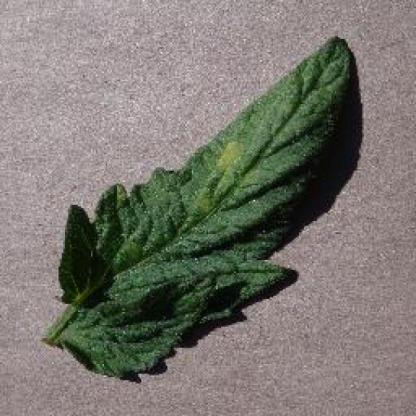Tomato_Leaf_Mold: (65, 38, 349, 374)
